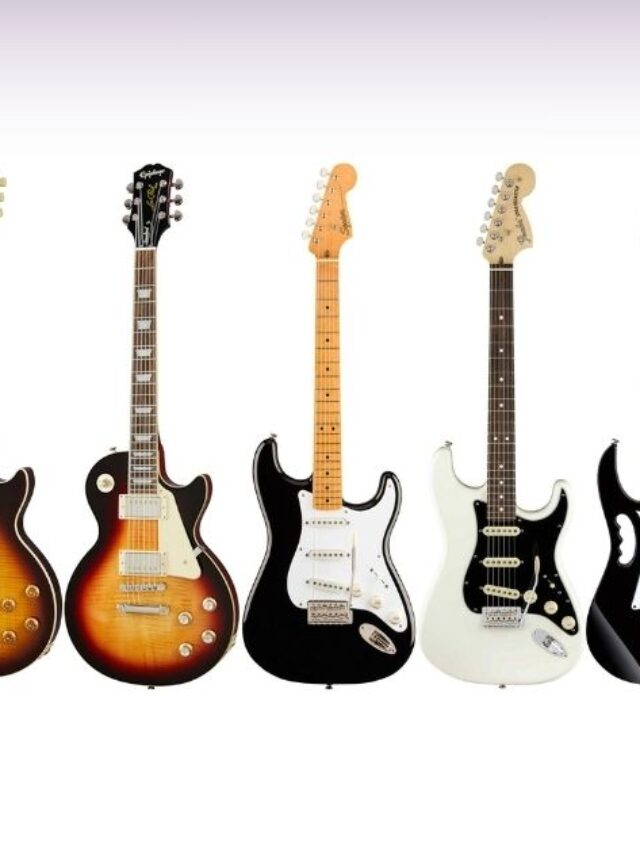guitar: (62, 160, 240, 690), (241, 161, 416, 690), (418, 166, 582, 690), (585, 435, 640, 691)
